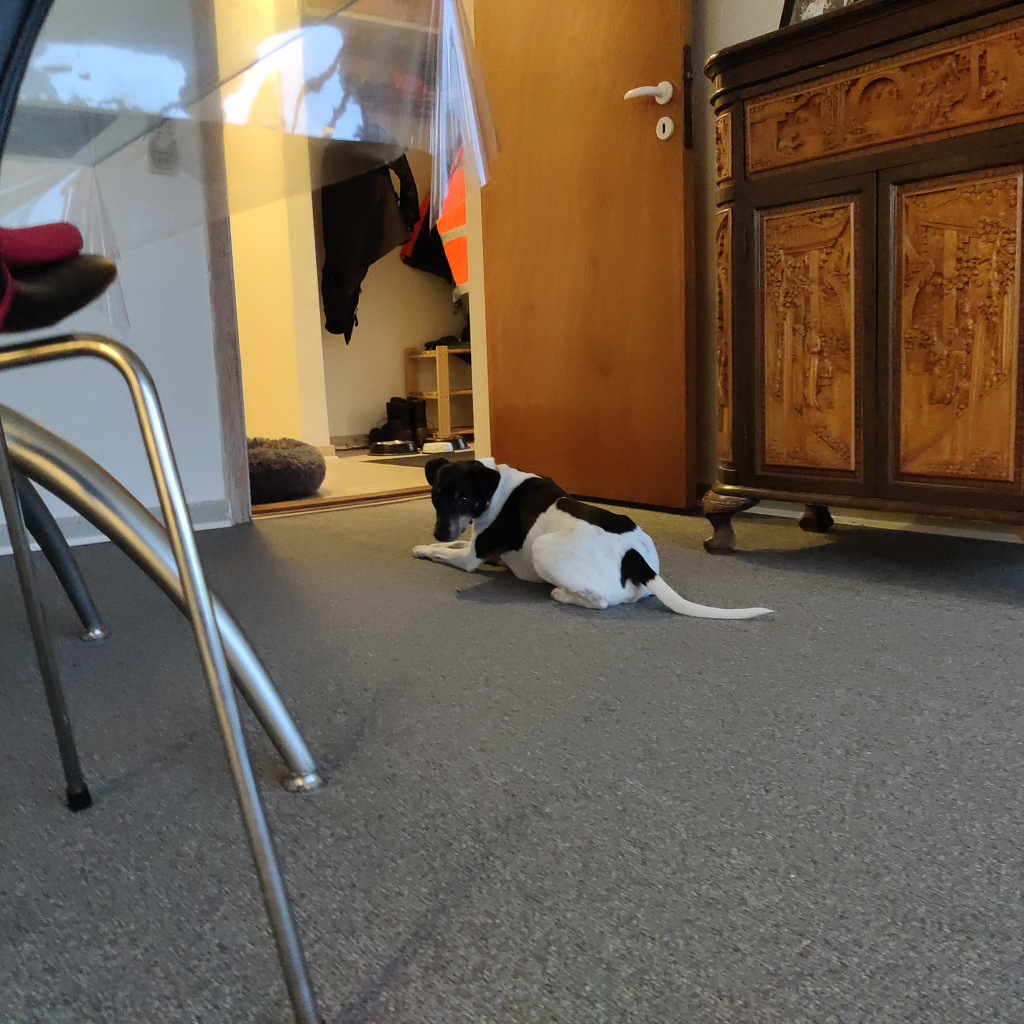Dog: (403, 448, 792, 631)
